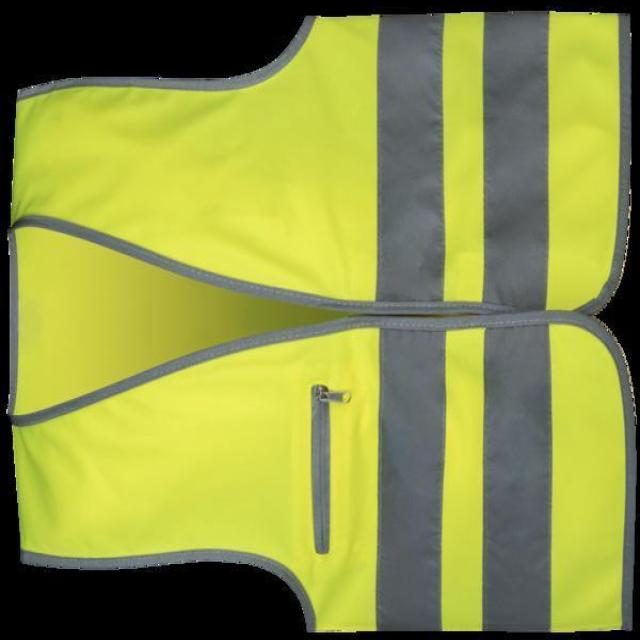jacket: (8, 0, 640, 637)
